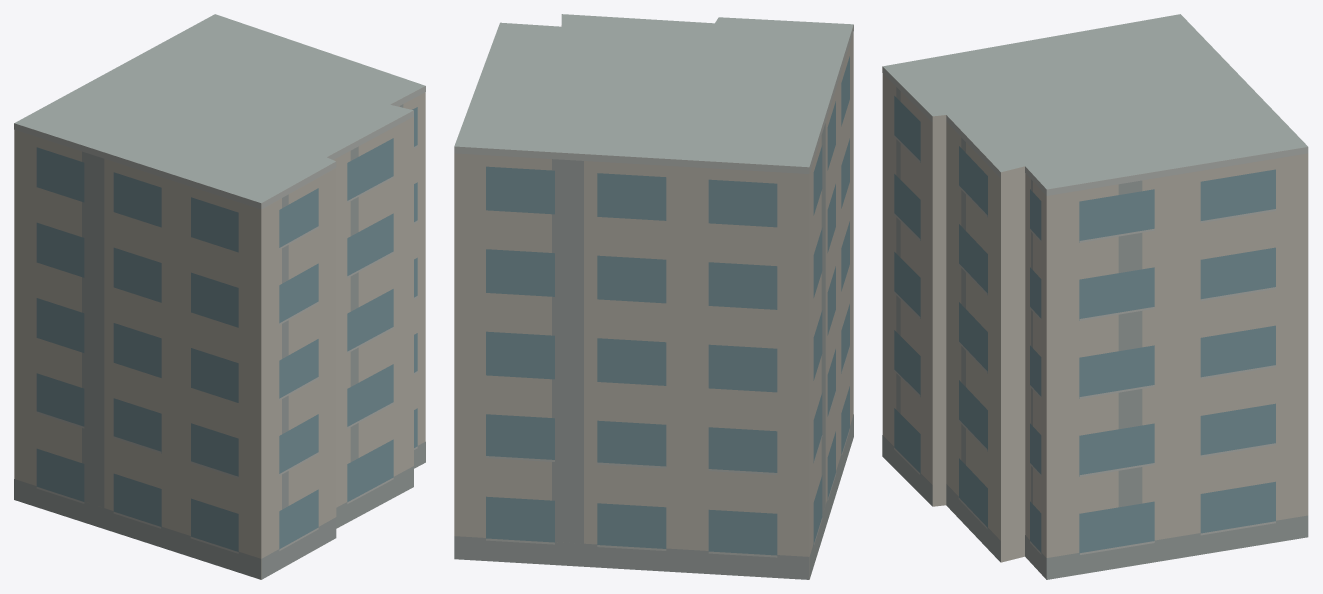
Rendered from survey-upis-33028592.glb.
The picture shows the model from 3 angles, left to right: view 1: azimuth 30°, elevation 25°; view 2: azimuth 150°, elevation 25°; view 3: azimuth 270°, elevation 25°; orthographic projection. The views are drawn at different scales.
Parts seen in each view (by area): view 1: survey-upis-33028592.tmp; view 2: survey-upis-33028592.tmp; view 3: survey-upis-33028592.tmp.
Part boxes in pixels (x1,y1,x2,y2): survey-upis-33028592.tmp: (14, 14, 425, 579); survey-upis-33028592.tmp: (454, 14, 853, 579); survey-upis-33028592.tmp: (882, 14, 1308, 579).
Size of the model in its own units: 14.09 by 14.6 by 14.45.
